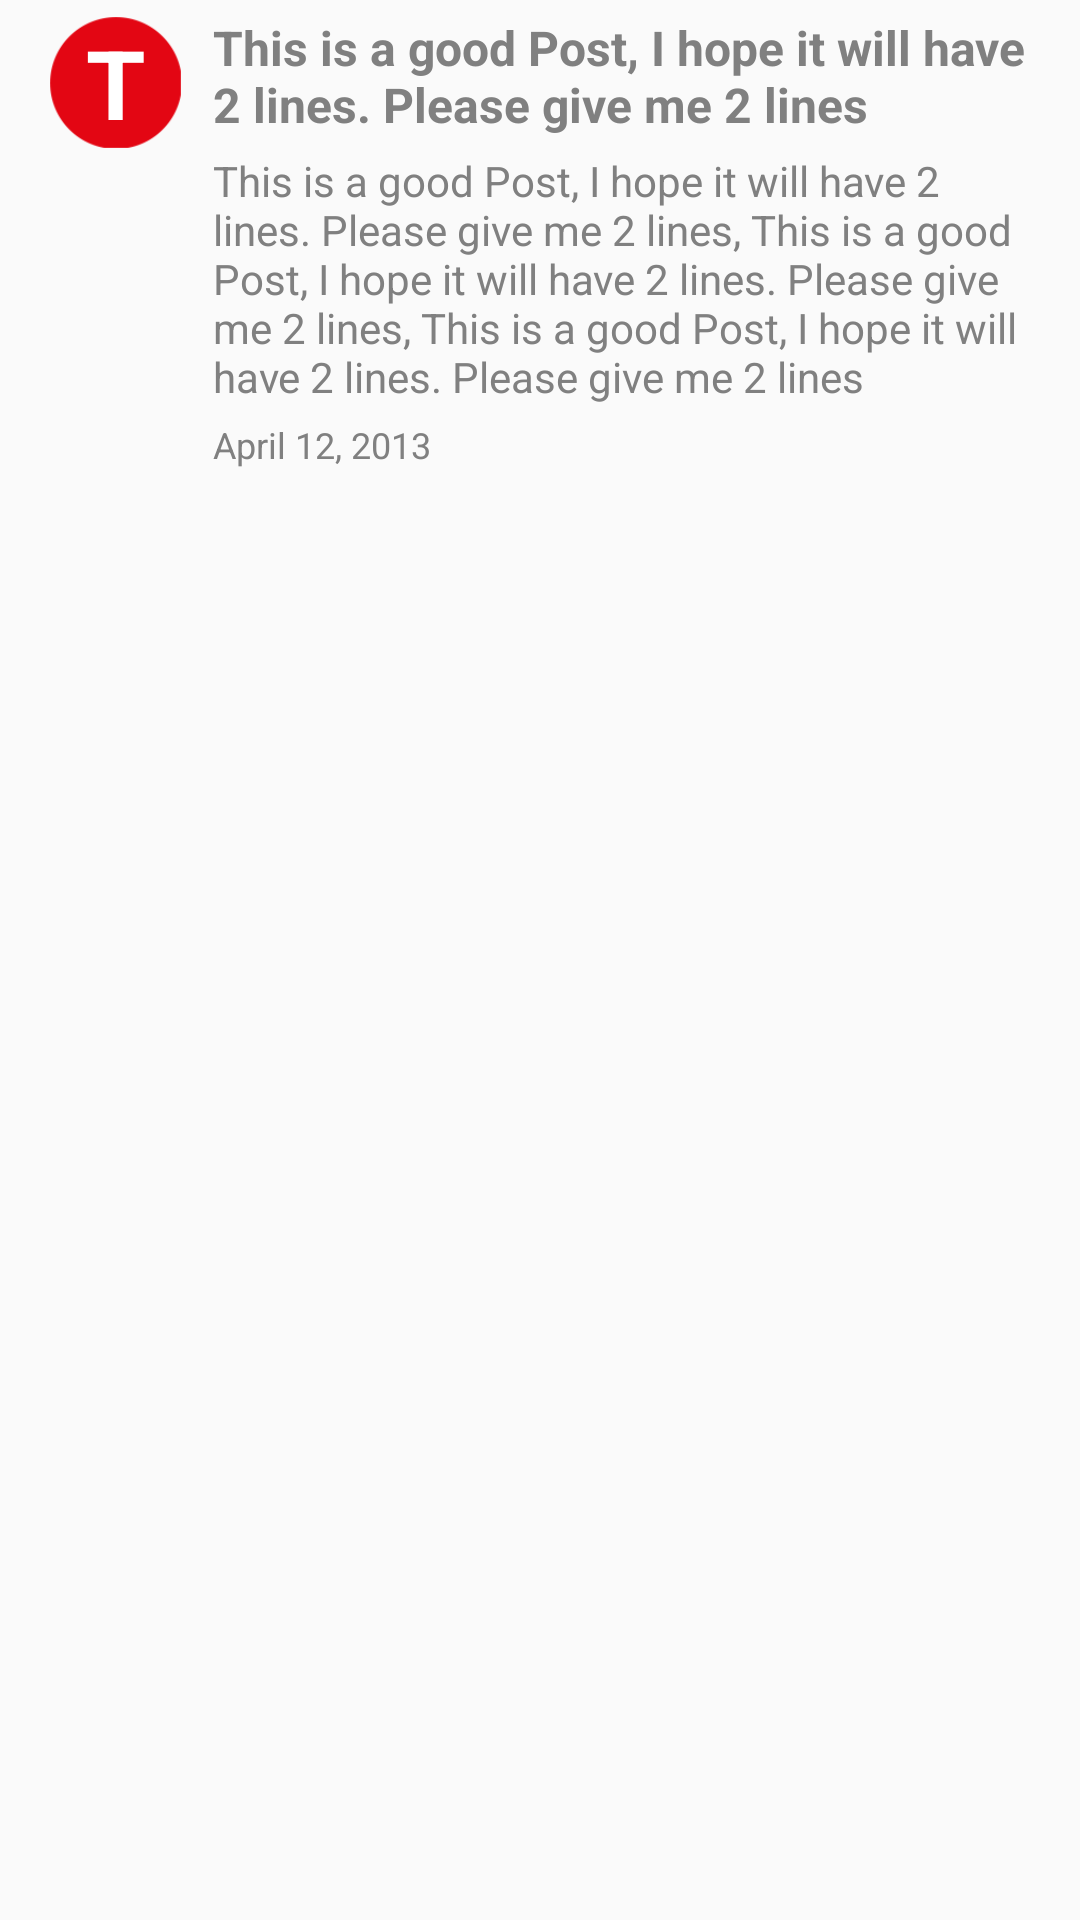

Named icons in this screenshot (1080px×1920px) and their centers, (x=x, y=y):
circle: (x=115, y=82)
